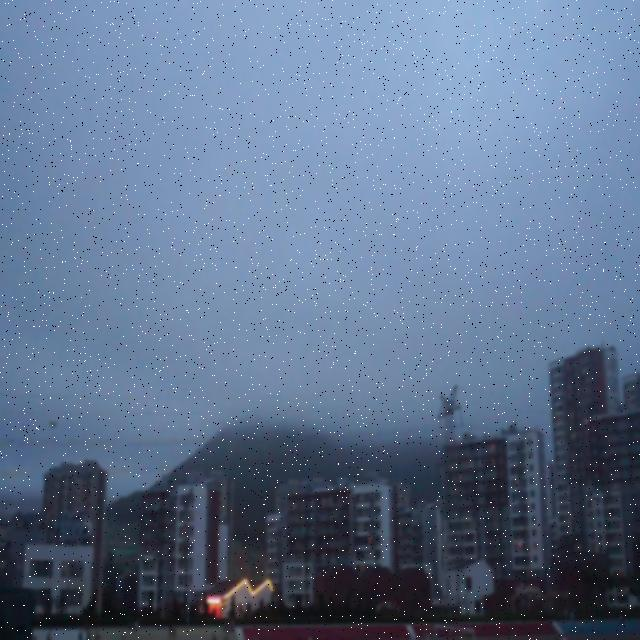UAV: (49, 420, 58, 430)
